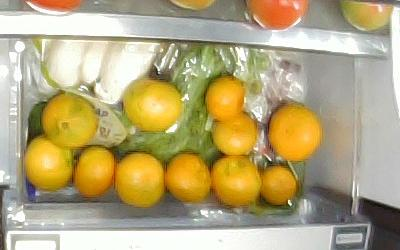tangerine: (122, 79, 183, 132), (268, 103, 321, 163), (42, 93, 98, 148), (116, 153, 166, 208), (25, 135, 73, 190), (211, 154, 261, 205), (166, 152, 210, 203), (75, 146, 116, 198), (212, 112, 257, 154), (206, 76, 245, 121), (260, 166, 297, 206)
